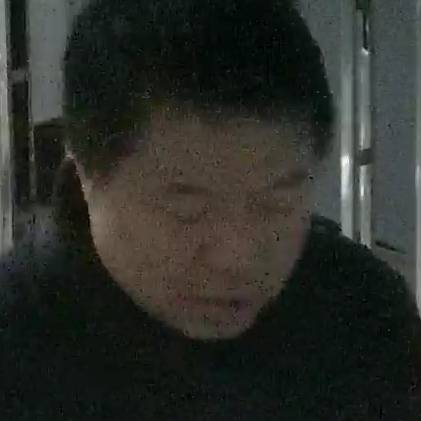cb: (61, 62, 354, 355)
